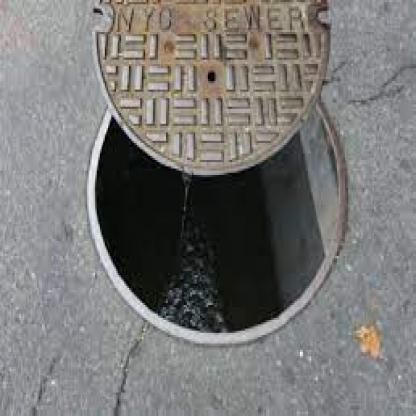open manhole-not overflowing-: (66, 0, 373, 361)
